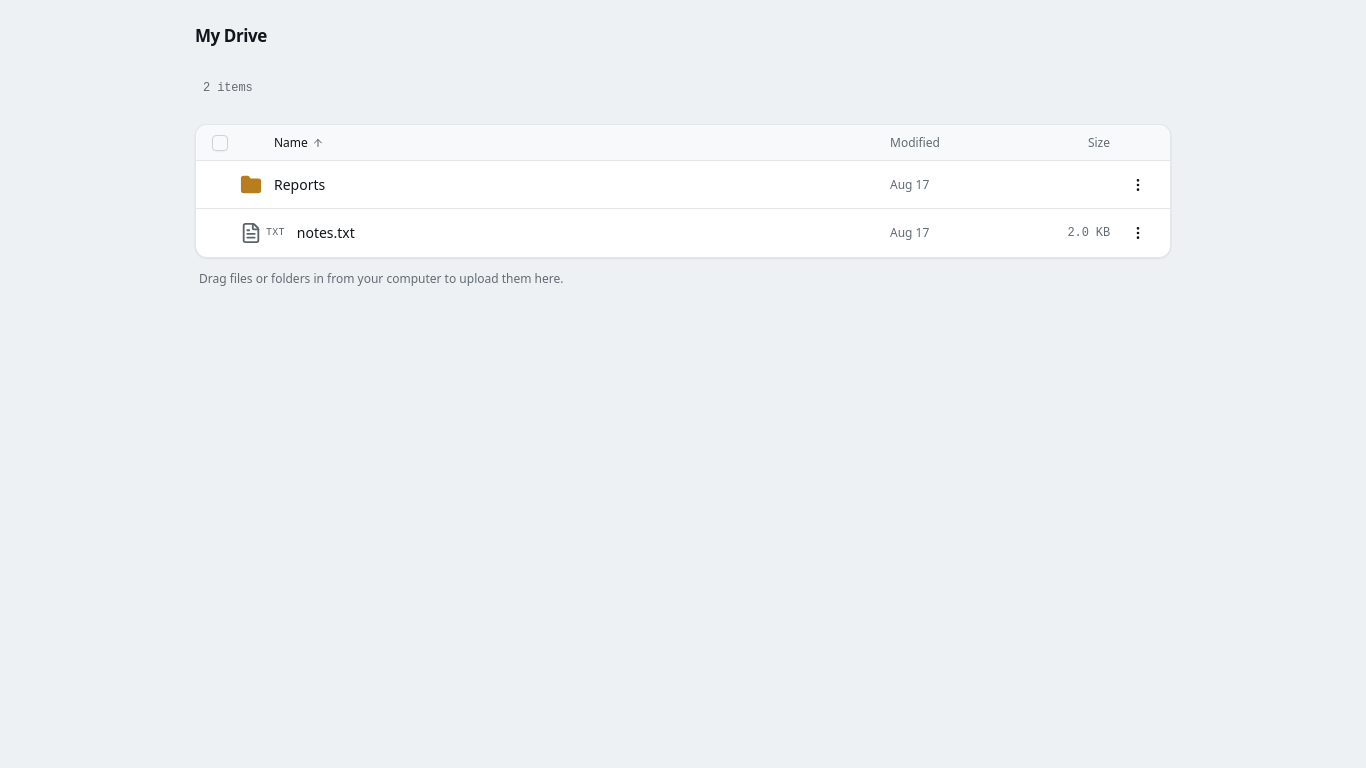
Test case: keys under an open row menu › opens only the rename dialog when Enter chooses Rename
expect the link "notes.txt" is shown: met, box [297, 223, 355, 242]
Click the button named "Actions for notes.txt" at point(1138, 233), box [1122, 217, 1154, 249]
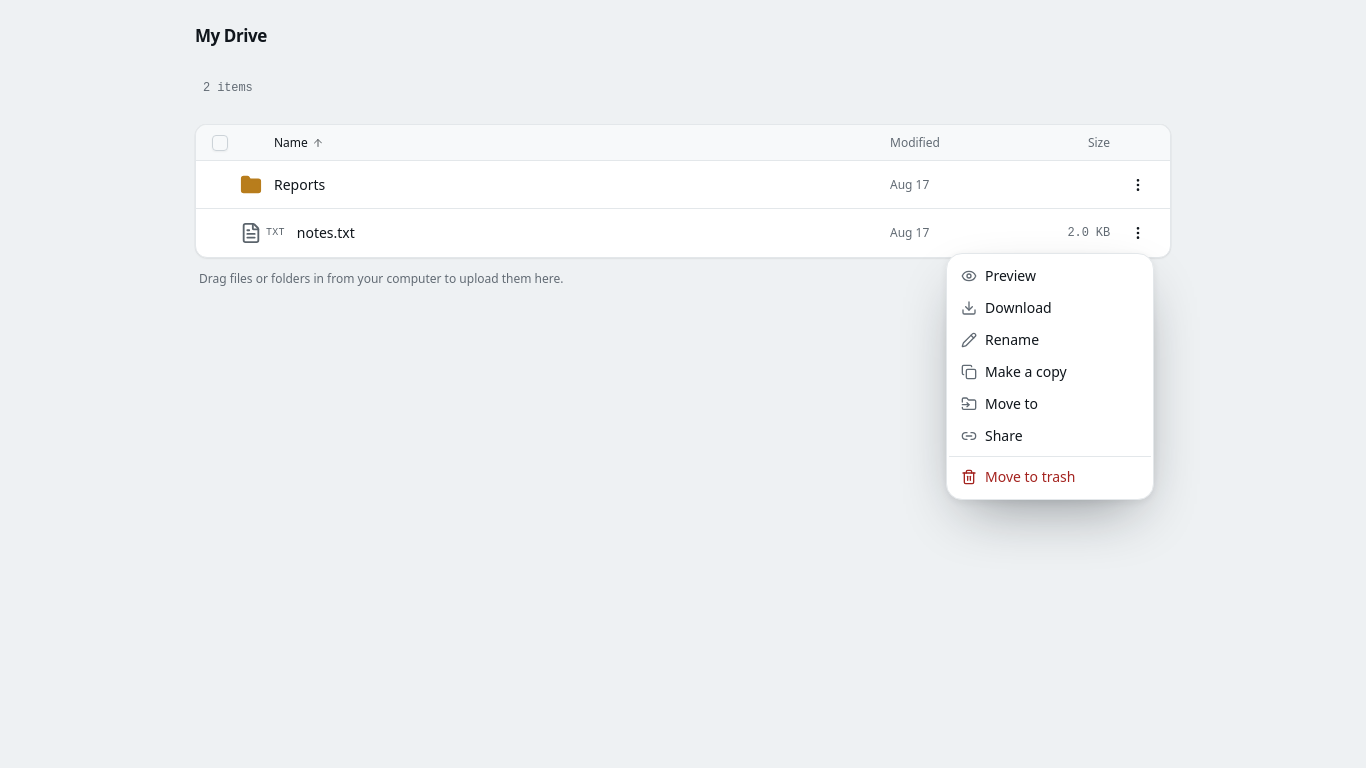
expect the menu is shown: met, box [946, 253, 1154, 500]
Press Arrowdown Arrowdown Arrowdown
Press Enter
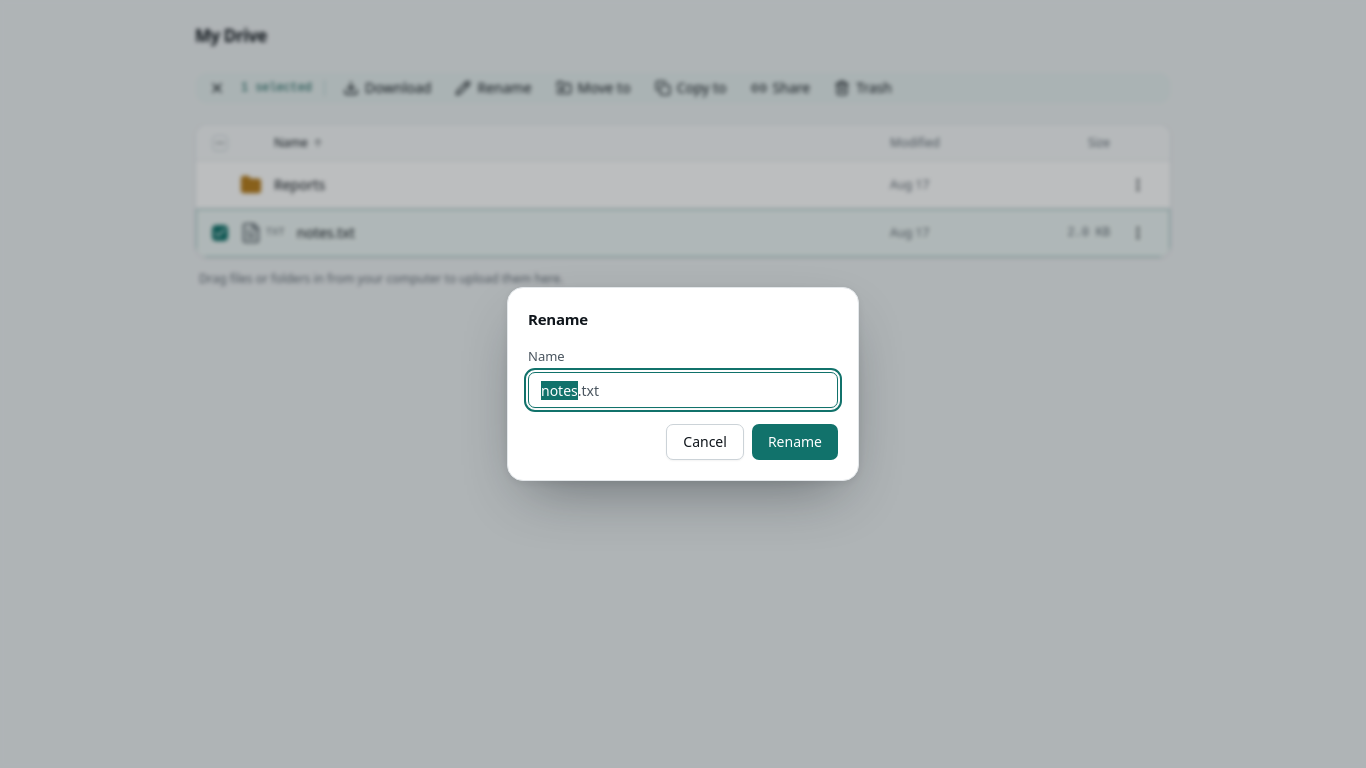
expect the field labelled "Name" holds "notes.txt": met, box [528, 372, 838, 408]
